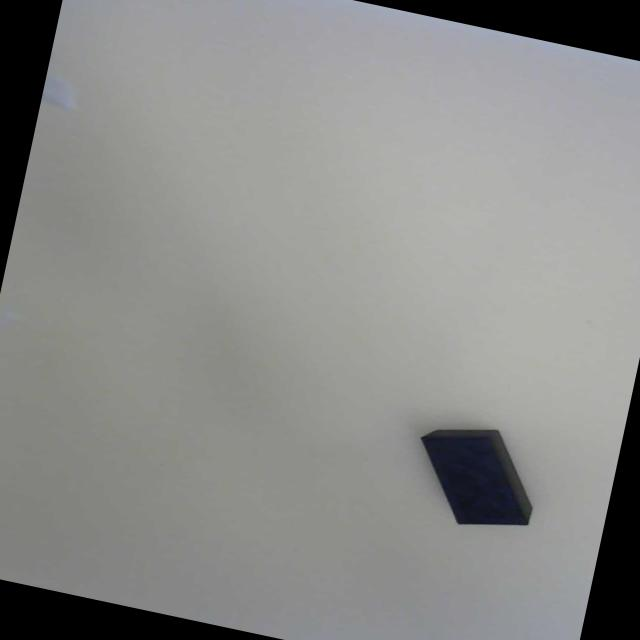rectangle: (419, 438, 529, 526)
